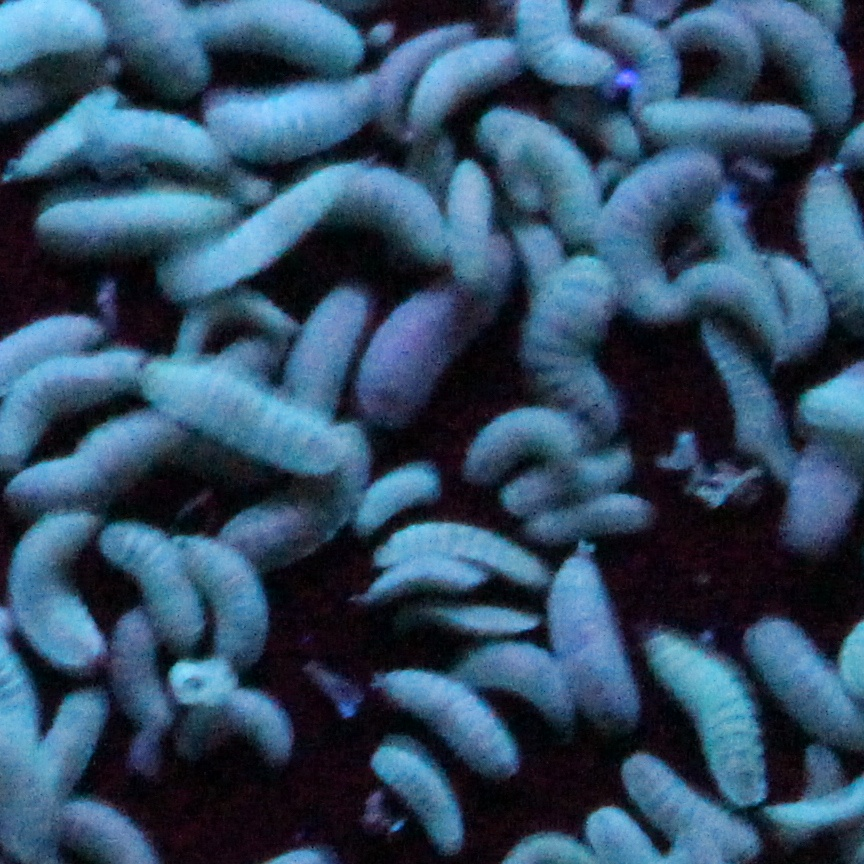larve: (134, 372, 356, 472), (9, 507, 112, 667), (660, 631, 760, 790), (176, 189, 319, 296), (530, 253, 608, 434), (366, 289, 473, 417), (398, 678, 530, 778), (680, 317, 776, 450), (360, 734, 471, 846), (27, 171, 223, 234), (553, 560, 634, 709), (612, 164, 694, 310), (198, 0, 362, 71), (366, 525, 551, 582), (216, 79, 379, 142), (191, 539, 273, 657), (166, 689, 287, 753), (594, 17, 673, 107), (123, 539, 194, 639), (680, 14, 762, 92), (434, 35, 498, 132), (451, 153, 491, 271), (359, 467, 434, 521), (523, 450, 619, 478), (530, 500, 641, 521)
